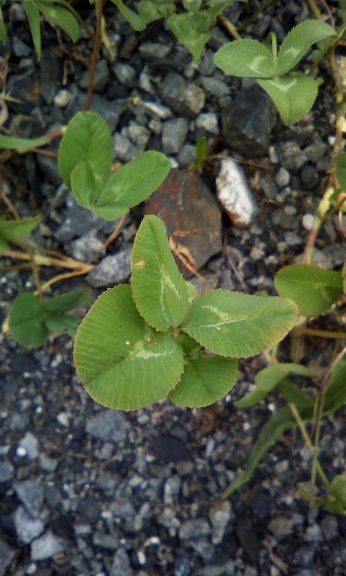4leaf: (72, 214, 301, 413)
